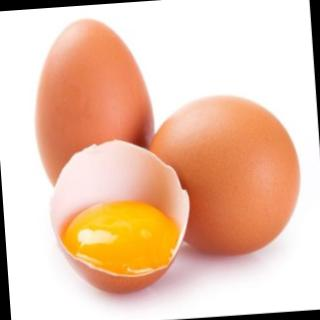Telur: (24, 2, 312, 305)
